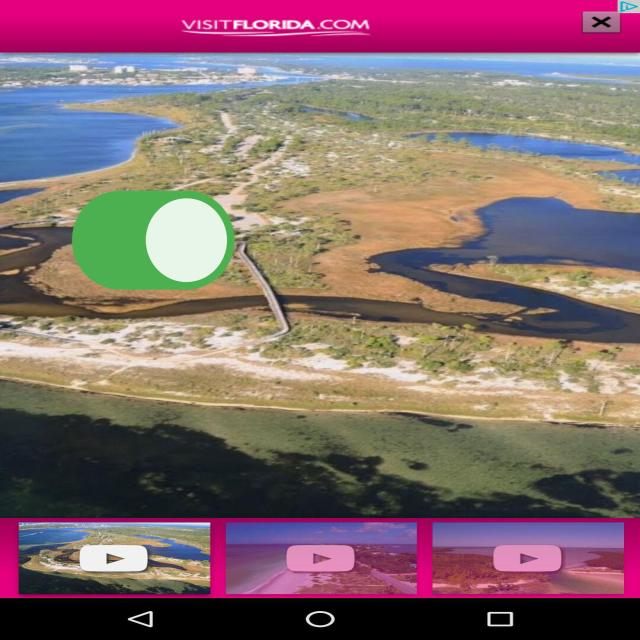social proof: (65, 153, 242, 335)
